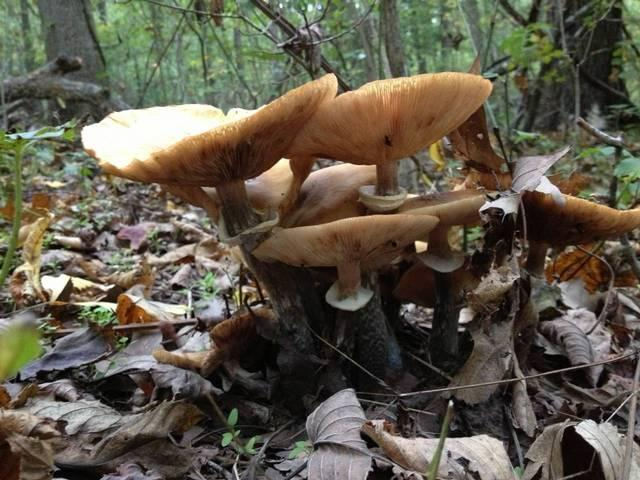Edible Mushroom: (80, 68, 495, 389)
